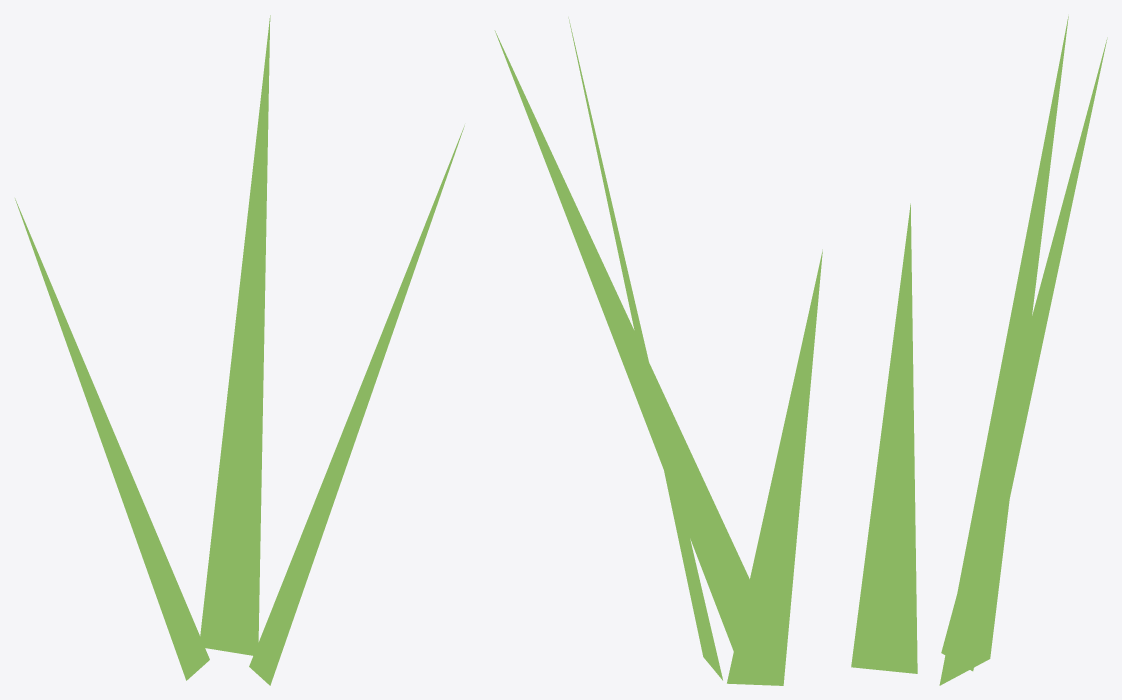
Rendered from Grass_d_TwoS_02.fbx.
3 views of the same model, side by side, from view 1: azimuth 30°, elevation 25°; view 2: azimuth 150°, elevation 25°; view 3: azimuth 270°, elevation 25° (orthographic). The views are drawn at different scales.
Parts seen in each view (by area): view 1: Grass_d_TwoS_02; view 2: Grass_d_TwoS_02; view 3: Grass_d_TwoS_02.
Part boxes in pixels (box(x1,y1,x2,y2)): Grass_d_TwoS_02: box(15, 15, 464, 685); Grass_d_TwoS_02: box(494, 17, 822, 685); Grass_d_TwoS_02: box(851, 16, 1107, 685).
Bounding box in the file's own units: 0.2831 × 0.4348 × 0.1406.
